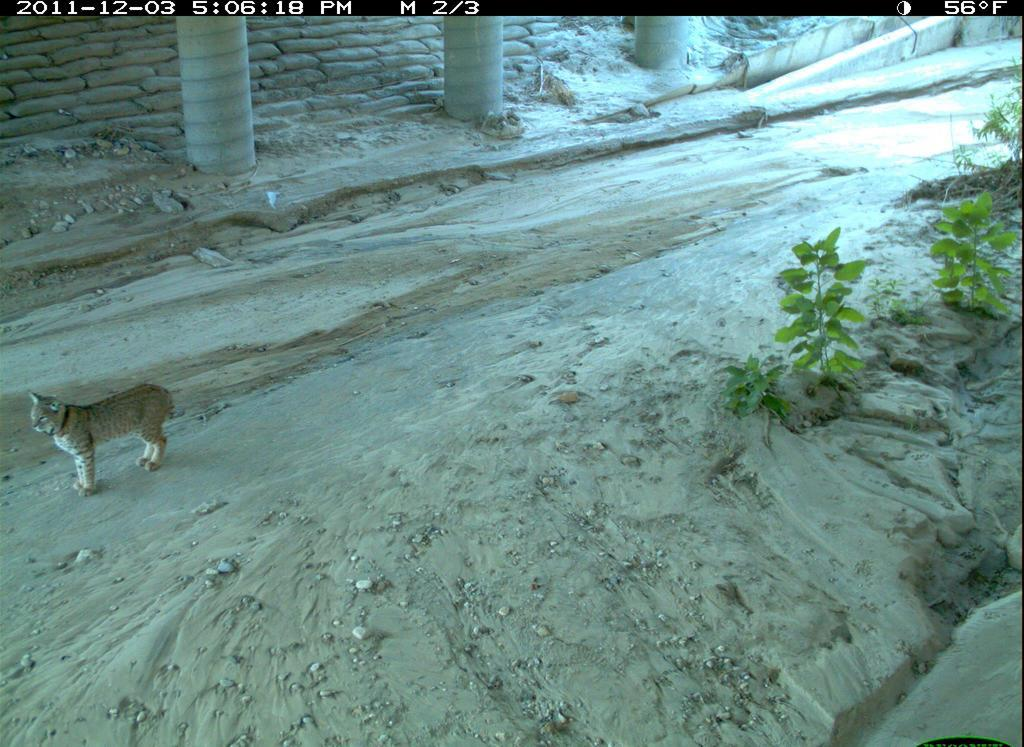bobcat: (25, 385, 187, 501)
